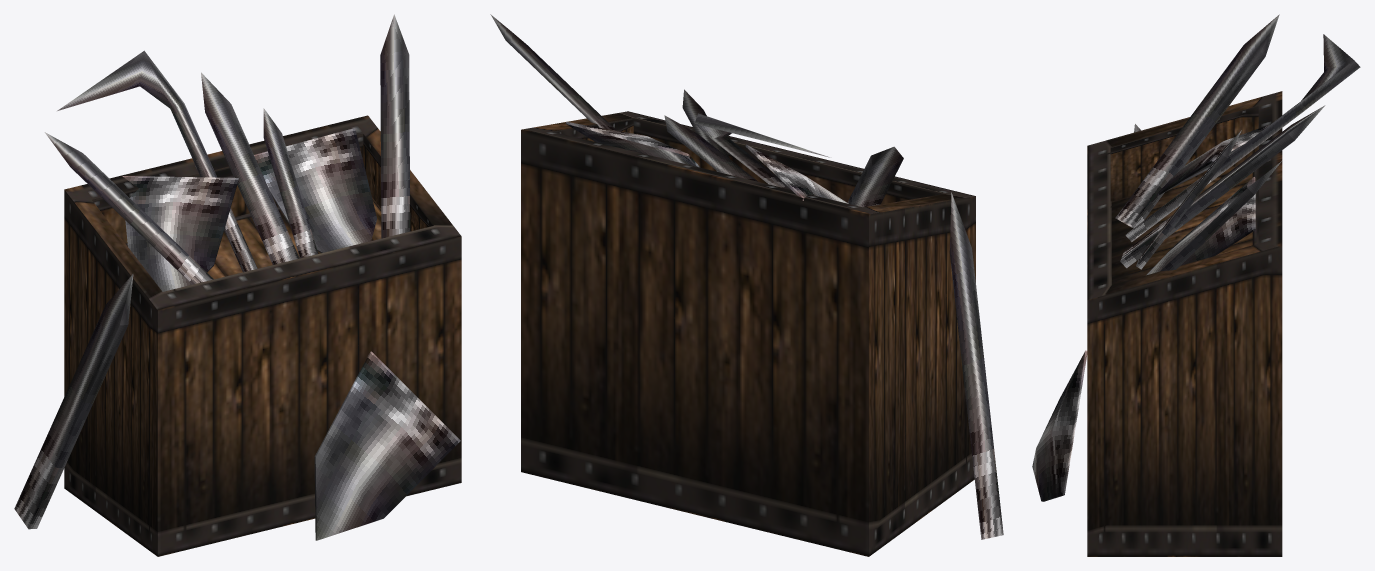
Rendered from House02.glb.
3 views of the same model, side by side, from view 1: azimuth 30°, elevation 25°; view 2: azimuth 150°, elevation 25°; view 3: azimuth 270°, elevation 25° (orthographic). The views are drawn at different scales.
Visible parts, largest first — view 1: House02; view 2: House02; view 3: House02.
Part boxes in pixels (x1,y1,x2,y2): House02: (14, 14, 461, 556); House02: (490, 14, 1003, 556); House02: (1032, 14, 1360, 556).
Bounding box in the file's own units: 2.04 × 1.89 × 1.37.
Materials: 2 (2 with a texture image).
